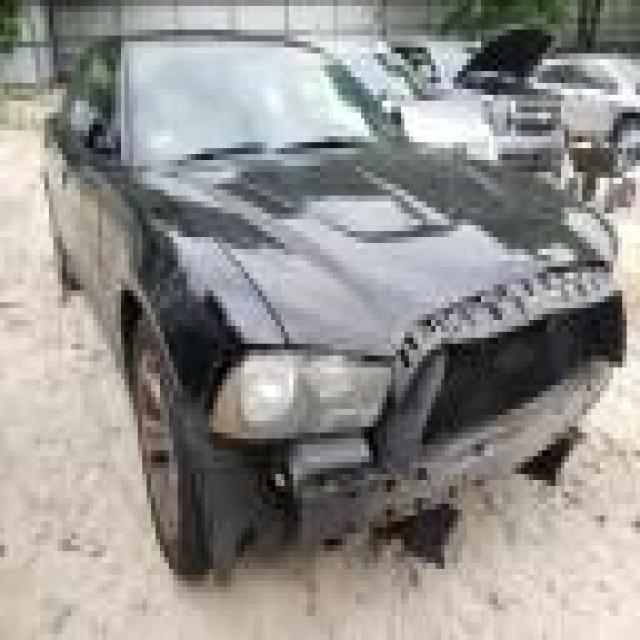moderate: (387, 224, 619, 436)
severe: (228, 468, 488, 556)
